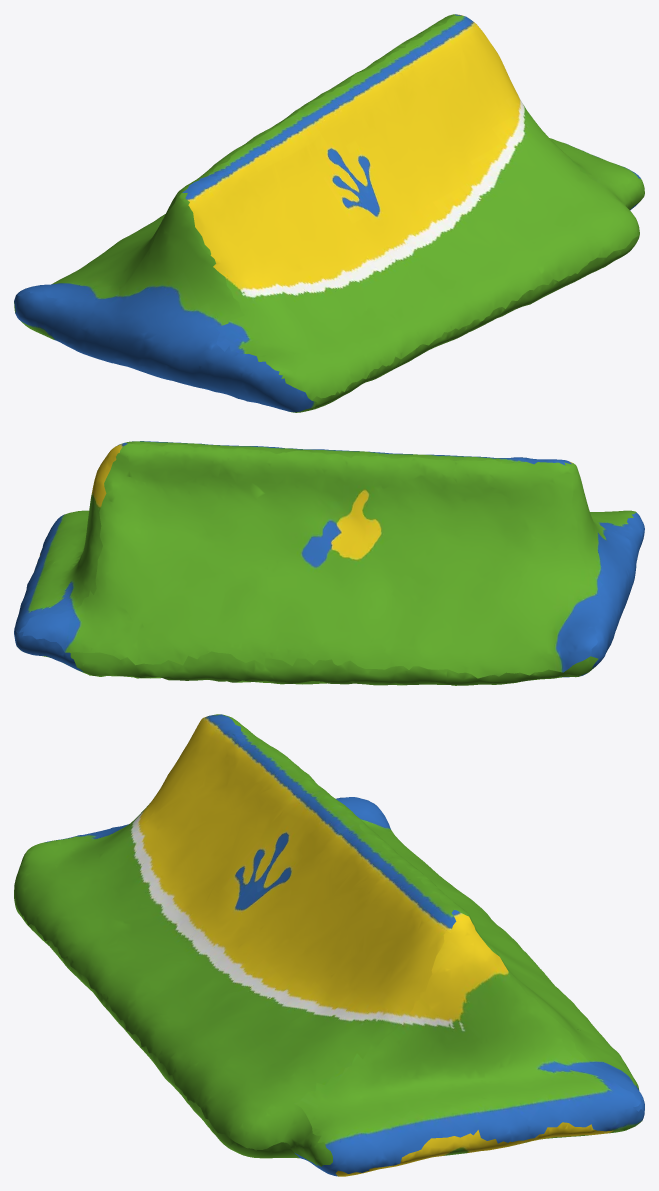
Rendered from quarterpipe.glb.
3 renders of one model, top to bottom at view 1: azimuth 30°, elevation 25°; view 2: azimuth 150°, elevation 25°; view 3: azimuth 270°, elevation 25°, orthographic. The views are drawn at different scales.
Parts seen in each view (by area): view 1: geometry_0; view 2: geometry_0; view 3: geometry_0.
Part boxes in pixels (x1,y1,x2,y2): geometry_0: [14, 14, 644, 412]; geometry_0: [14, 441, 644, 685]; geometry_0: [14, 714, 644, 1176].
Bounding box in the file's own units: 0.9412 × 0.2744 × 0.7534.
Materials: 1 (1 with a texture image).
